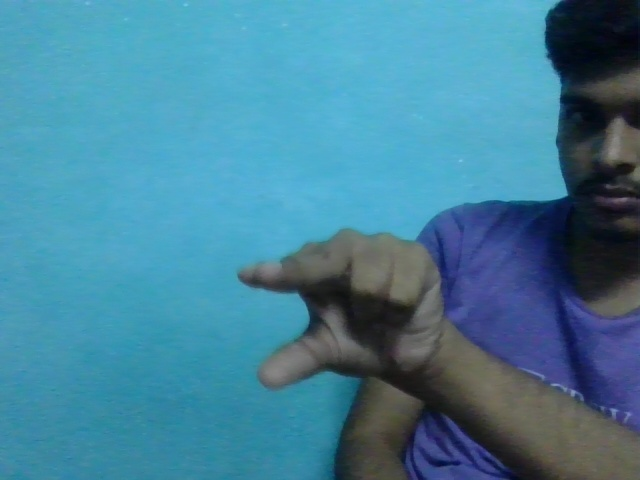no: (237, 225, 452, 405)
